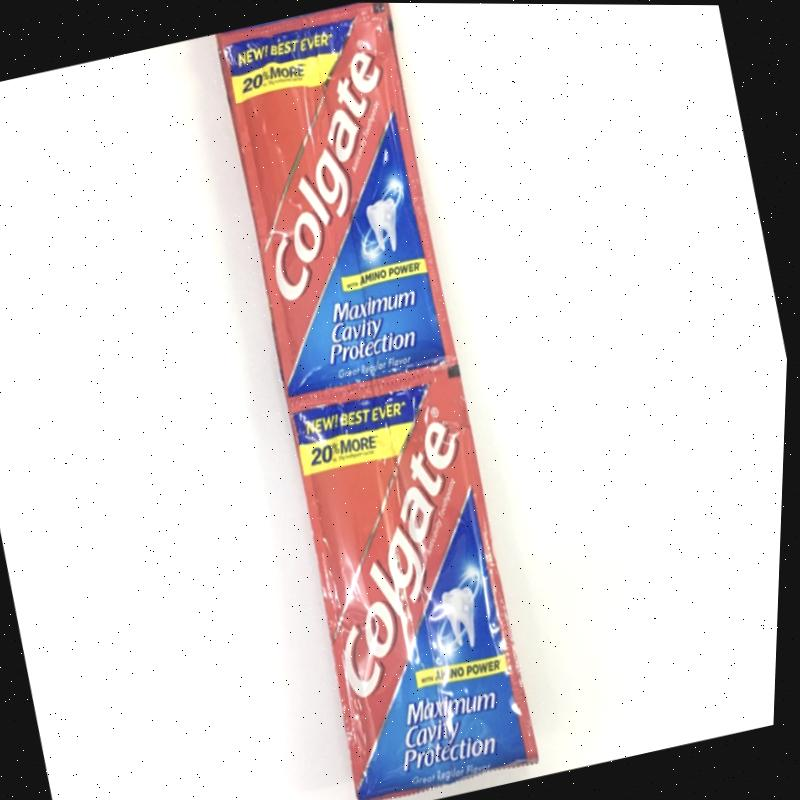plastic sachet: (287, 360, 538, 800), (215, 3, 457, 404)
